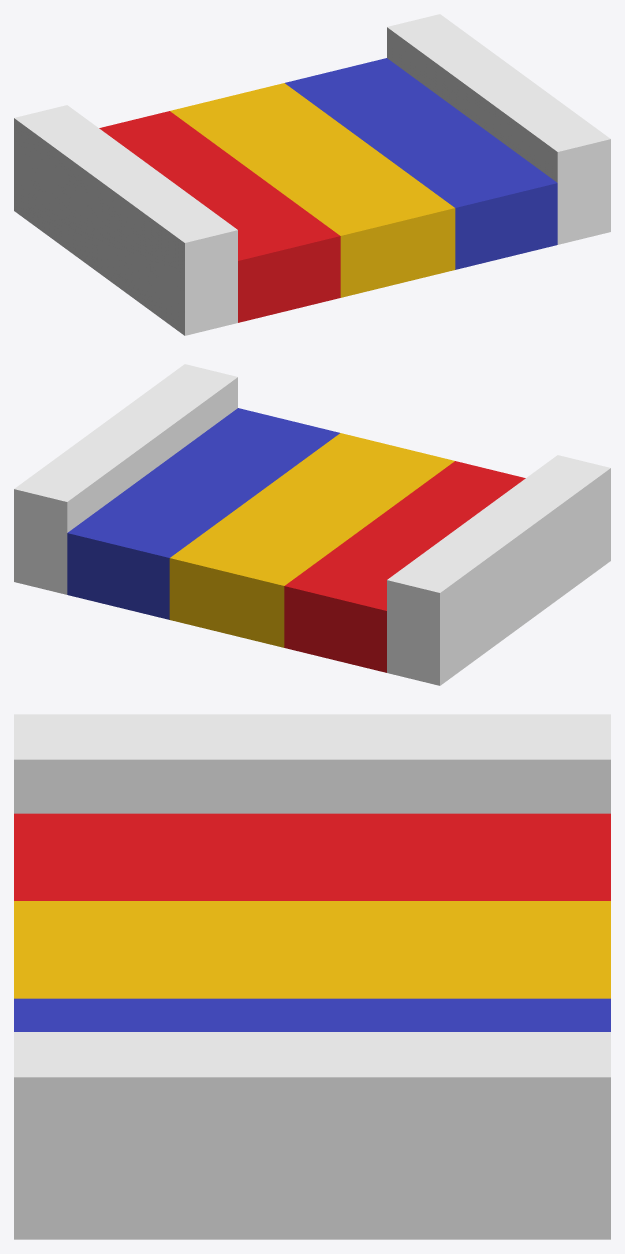
Rendered from lane.gltf.
3 views of the same model, one above another, from view 1: azimuth 30°, elevation 25°; view 2: azimuth 150°, elevation 25°; view 3: azimuth 270°, elevation 25° (orthographic). The views are drawn at different scales.
Parts seen in each view (by area): view 1: Cube; view 2: Cube; view 3: Cube.
Boxes of the visible parts, box(x1,y1,x2,y2) form: Cube: box(14, 14, 610, 335); Cube: box(14, 364, 610, 685); Cube: box(14, 714, 610, 1239).
Size of the model in its own units: 14.4 by 3 by 10.
1 material, 1 textured.
